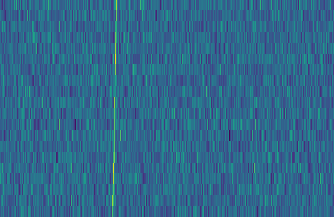signal: (106, 0, 119, 217)
